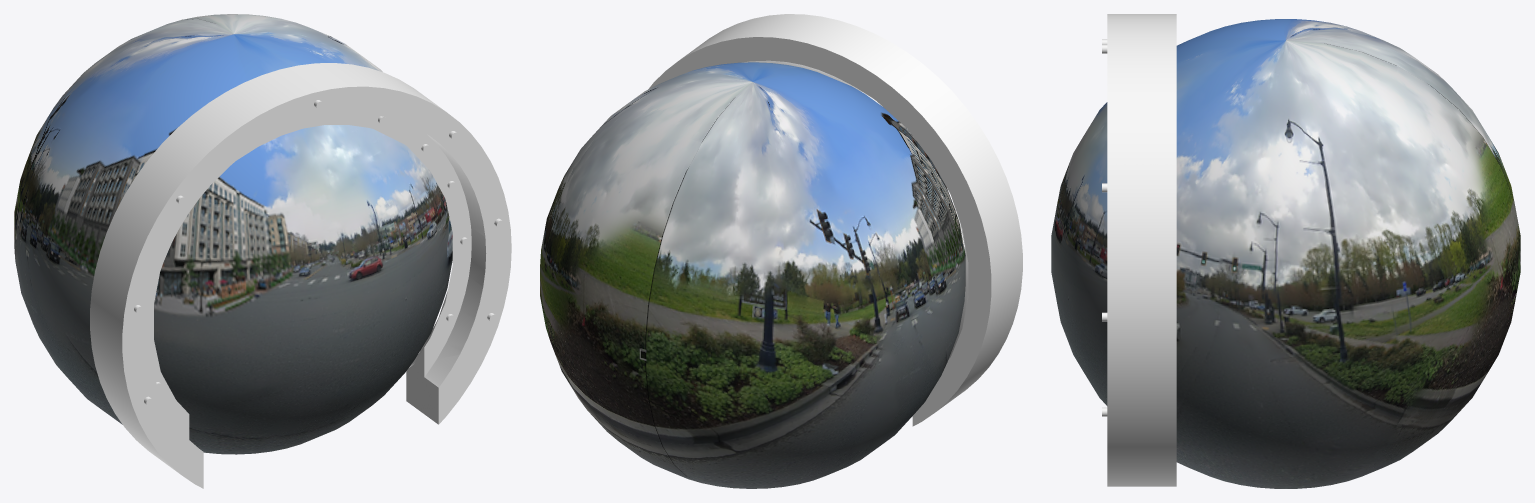
Rendered from enter_the_portal_9.glb.
3 views of the same model, side by side, from view 1: azimuth 30°, elevation 25°; view 2: azimuth 150°, elevation 25°; view 3: azimuth 270°, elevation 25° (orthographic). The views are drawn at different scales.
Parts seen in each view (by area): view 1: Sphere008, Object010_12 - Default_0; view 2: Sphere008, Object010_12 - Default_0; view 3: Sphere008, Object010_12 - Default_0.
Part boxes in pixels (bbox=[...]): Sphere008: bbox=[14, 14, 452, 454]; Object010_12 - Default_0: bbox=[90, 63, 511, 488]; Sphere008: bbox=[540, 62, 965, 488]; Object010_12 - Default_0: bbox=[648, 14, 1022, 426]; Sphere008: bbox=[1051, 19, 1520, 488]; Object010_12 - Default_0: bbox=[1102, 14, 1176, 486].
Size of the model in its own units: 3.84 by 3.8 by 3.75.
2 materials, 1 textured.
